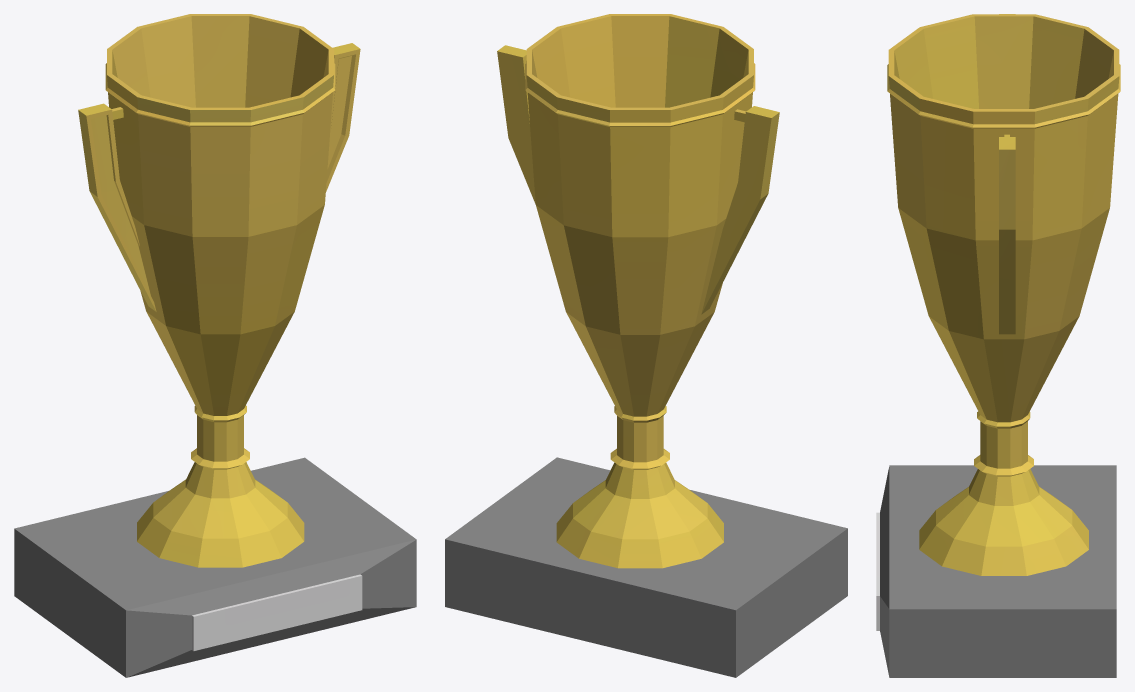
Rendered from trophy.glb.
The picture shows the model from 3 angles, left to right: view 1: azimuth 30°, elevation 25°; view 2: azimuth 150°, elevation 25°; view 3: azimuth 270°, elevation 25°; orthographic projection.
Parts seen in each view (by area): view 1: Trophy; view 2: Trophy; view 3: Trophy.
Boxes of the visible parts, <box> form: Trophy: <box>14,14,416,677</box>; Trophy: <box>445,14,847,677</box>; Trophy: <box>876,14,1120,677</box>.
Bounding box in the file's own units: 0.1652 × 0.2923 × 0.1187.
Materials: 1 (1 with a texture image).
